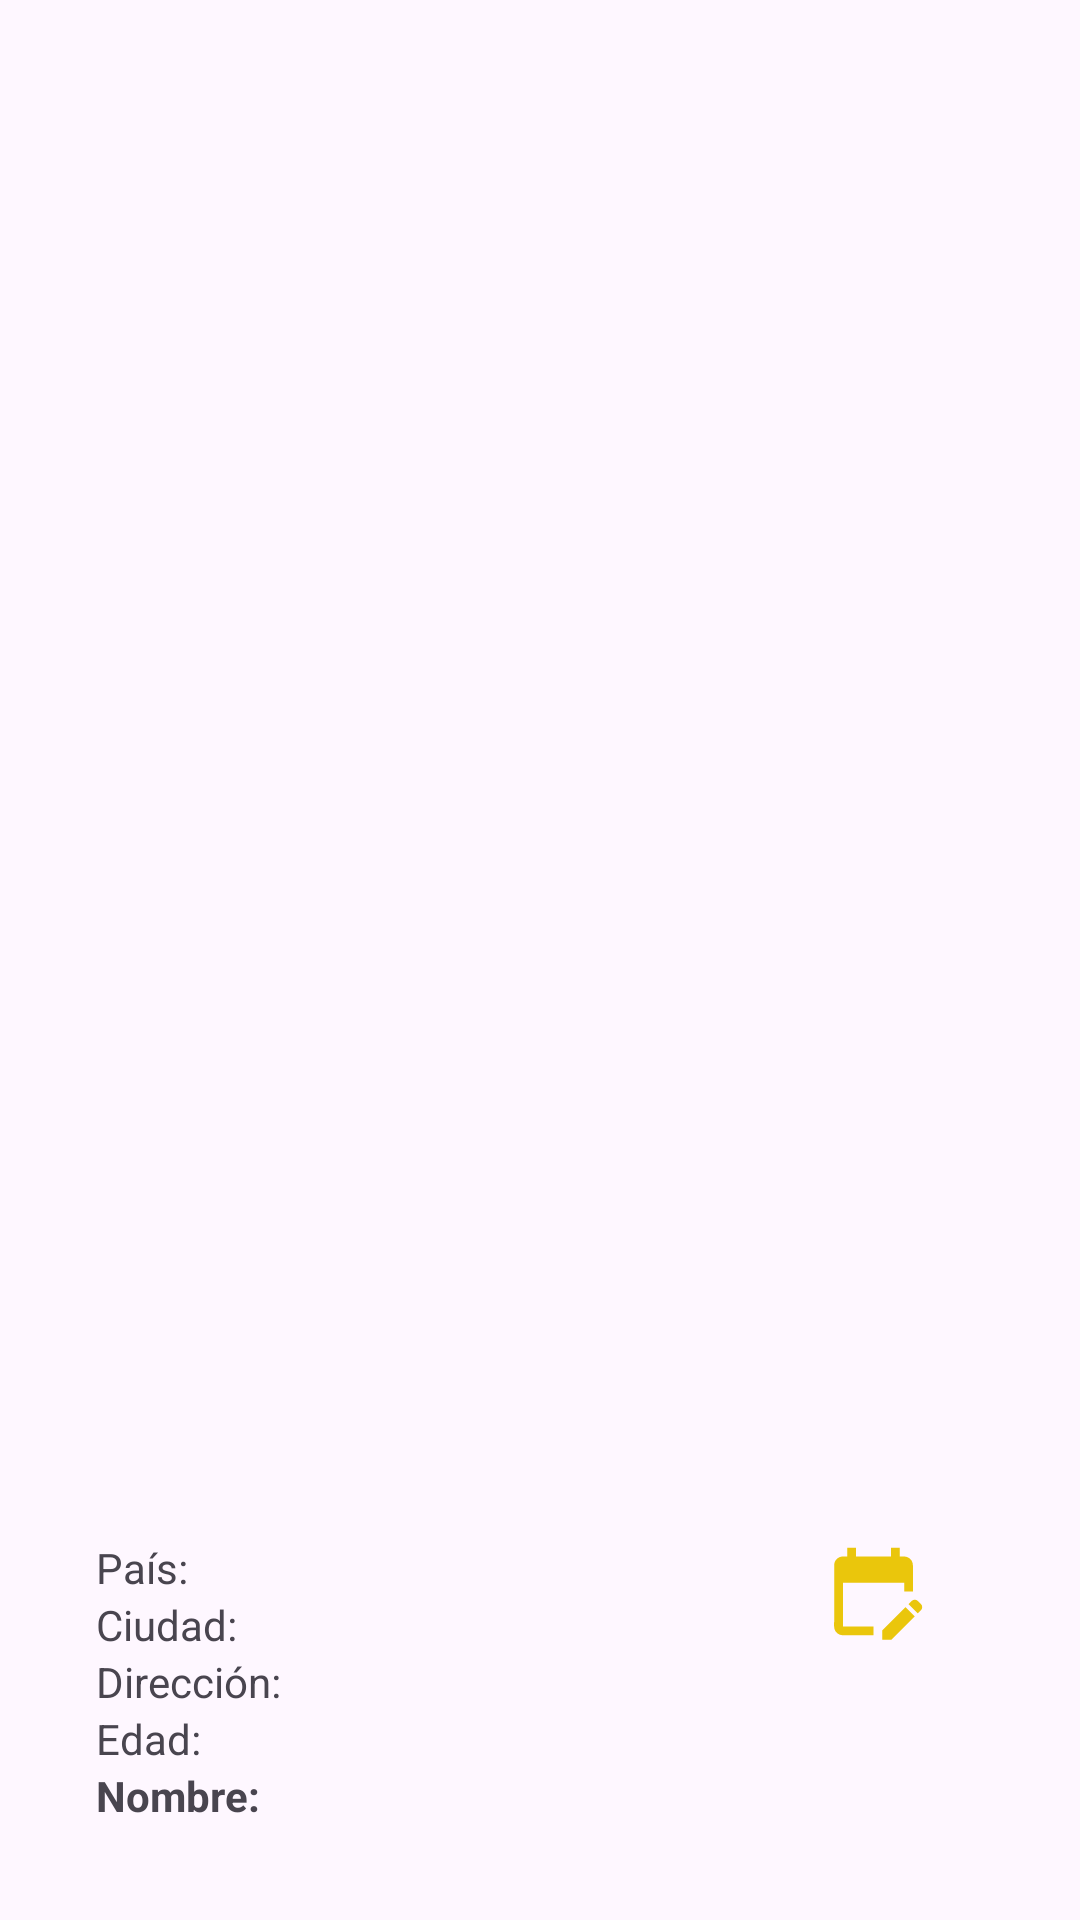

Screen size 1080px×1920px. Icon name, then its box in pixels as bbox(x1, y1, x2, y2):
edit calendar: bbox(834, 1547, 923, 1640)
